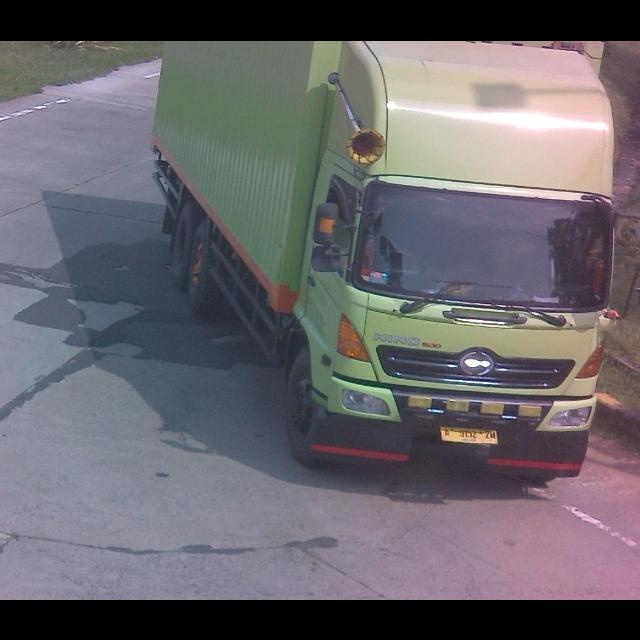plate: (441, 424, 501, 446)
